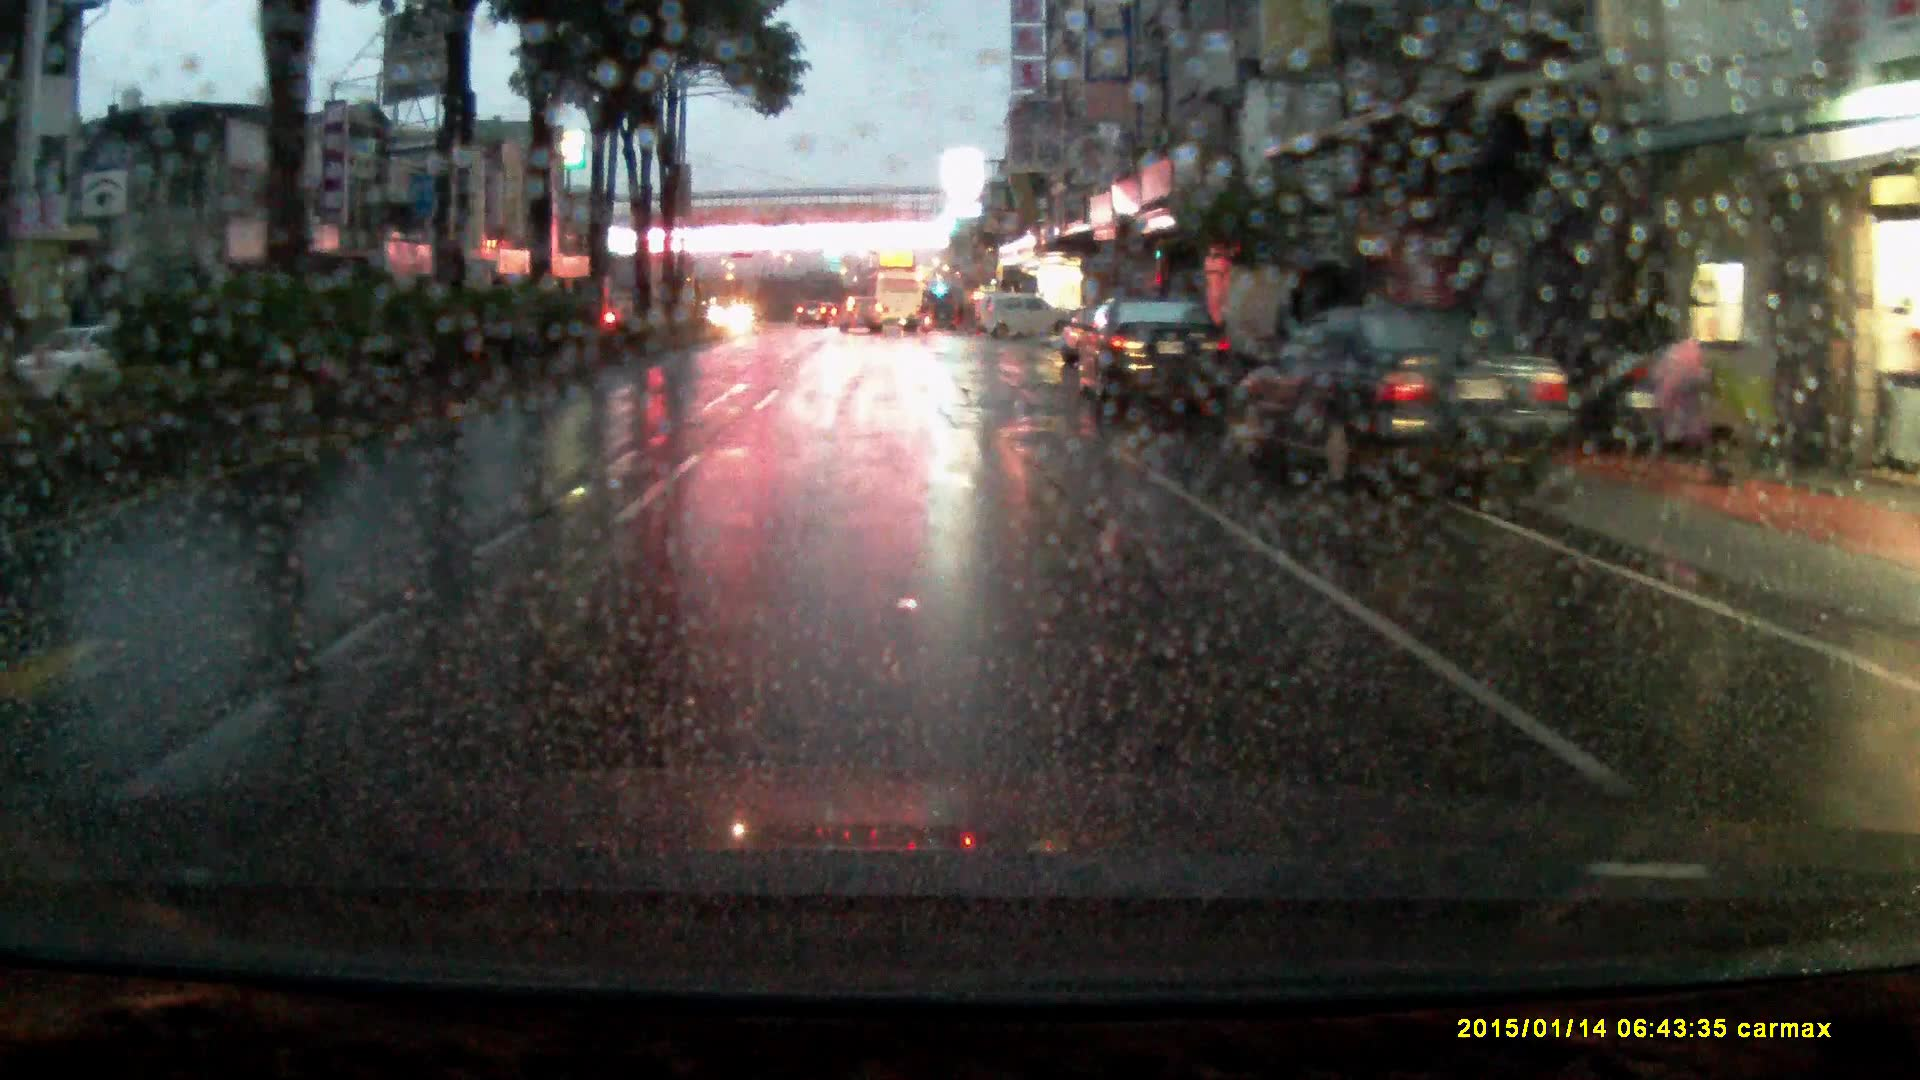vehicle: (1222, 305, 1586, 498), (1073, 290, 1238, 419), (11, 326, 123, 386), (984, 293, 1072, 345), (861, 270, 924, 335), (1062, 309, 1102, 371), (837, 295, 887, 338), (796, 299, 829, 330)
